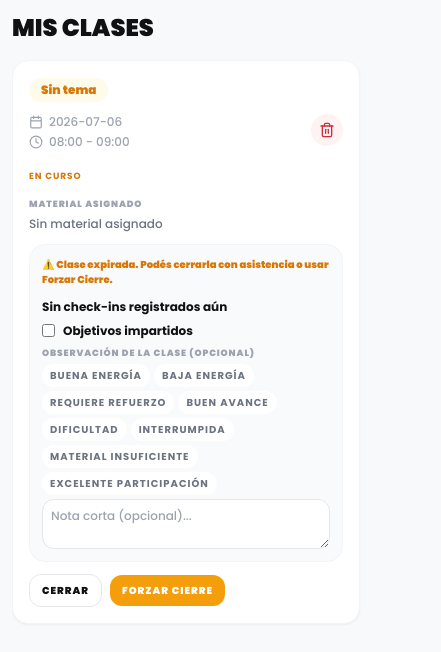
it: MisClasesView › muestra error si intenta cerrar una clase en curso sin registrar asistencia
Expected: the text "Sin check-ins registrados aún" is shown, [42, 298, 227, 314]
Click the button "Cerrar". click: coordinates (65, 590)
box: [29, 574, 102, 607]
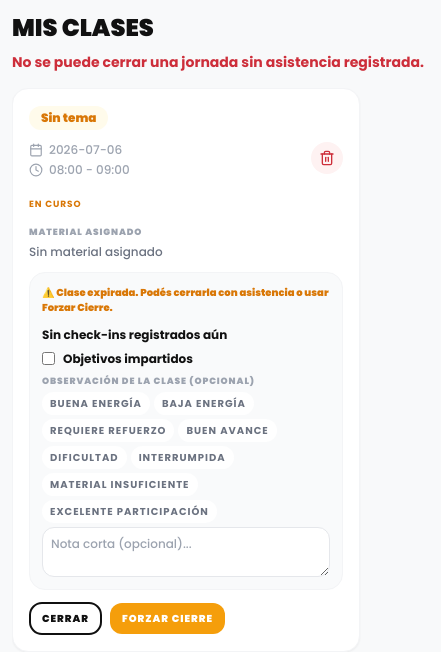
Now the text "No se puede cerrar una jornada sin asistencia registrada." is shown, box [12, 52, 424, 72]
